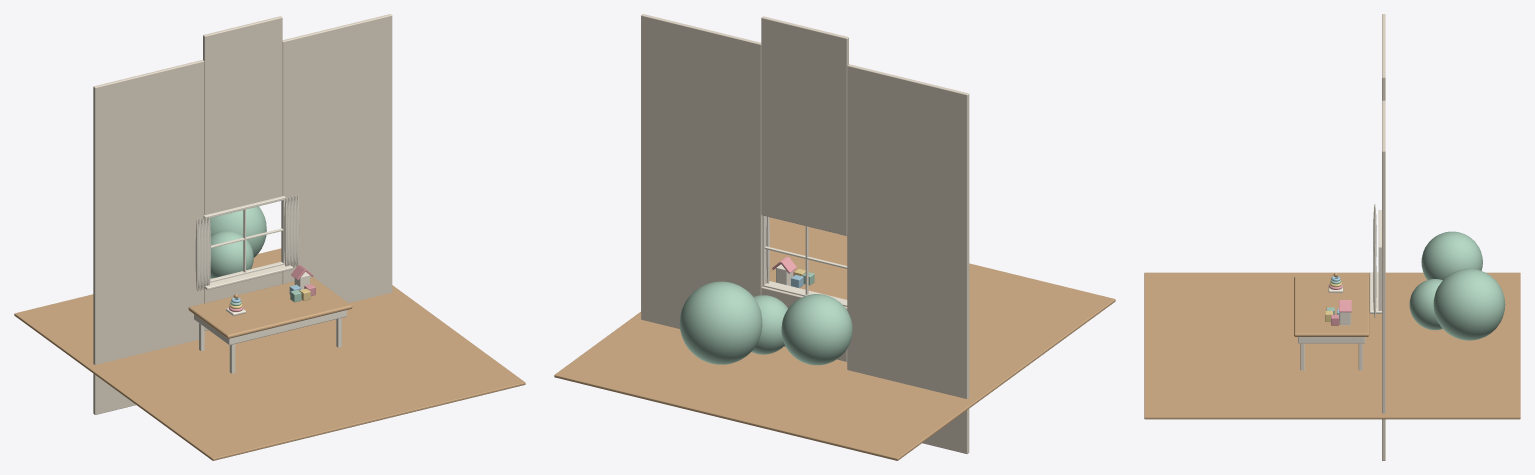
File: playroom.glb
The picture shows the model from 3 angles, left to right: view 1: azimuth 30°, elevation 25°; view 2: azimuth 150°, elevation 25°; view 3: azimuth 270°, elevation 25°; orthographic projection. The views are drawn at different scales.
Parts seen in each view (by area): view 1: Room floor, Wall left, Wall right, Wall above window, Desk solid rounded top, Distant garden canopy.002, Distant garden canopy.001, Desk ivory apron, Wall below window, Deep window sill; view 2: Room floor, Wall left, Wall right, Wall above window, Distant garden canopy.001, Distant garden canopy, Distant garden canopy.002, Desk solid rounded top; view 3: Room floor, Distant garden canopy.001, Desk solid rounded top, Distant garden canopy, Wall right, Distant garden canopy.002, Desk ivory apron.
Part boxes in pixels (box(x1,y1,x2,y2)): Room floor: box(14, 248, 525, 460); Wall left: box(93, 60, 204, 414); Wall right: box(282, 14, 392, 302); Wall above window: box(203, 16, 282, 214); Desk solid rounded top: box(188, 277, 352, 338); Distant garden canopy.002: box(210, 230, 253, 278); Distant garden canopy.001: box(210, 206, 266, 257); Desk ivory apron: box(194, 310, 346, 345); Wall below window: box(204, 272, 282, 330); Deep window sill: box(204, 264, 292, 289); Room floor: box(554, 217, 1115, 460); Wall left: box(847, 64, 969, 453); Wall right: box(641, 14, 762, 328); Wall above window: box(761, 16, 848, 235); Distant garden canopy.001: box(679, 281, 762, 364); Distant garden canopy: box(781, 294, 852, 365); Distant garden canopy.002: box(751, 295, 788, 354); Desk solid rounded top: box(769, 259, 847, 299); Room floor: box(1144, 272, 1520, 419); Distant garden canopy.001: box(1433, 268, 1505, 340); Desk solid rounded top: box(1294, 276, 1369, 336); Distant garden canopy: box(1421, 231, 1482, 279); Wall right: box(1382, 100, 1385, 460); Distant garden canopy.002: box(1409, 279, 1442, 330); Desk ivory apron: box(1298, 337, 1365, 343).
Size of the model in its own units: 20 by 21.5 by 22.
